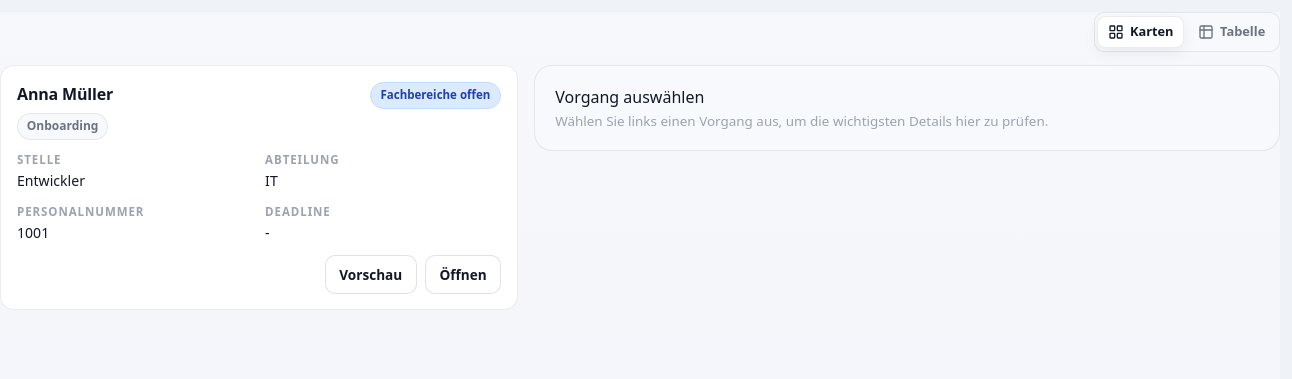
Test case: WorkflowListResults — split workspace selection (Z18-F7) › shows workflow preview after user clicks Vorschau
Click the button "Vorschau" at (371, 274), box 325,255 -> 417,294
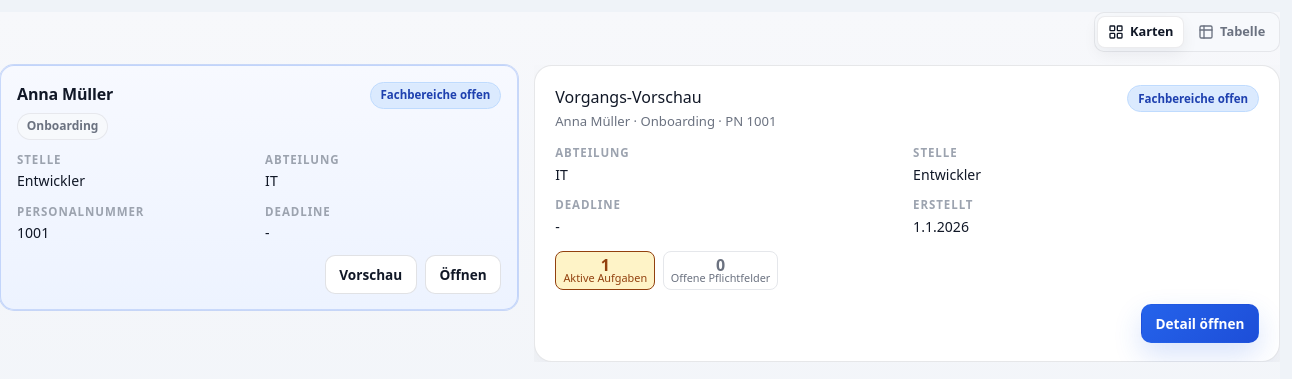
Expected: the heading "Anna Müller" is shown, 17,82 -> 113,106
Now the element named "Vorschau für Anna Müller" is shown, box 534,65 -> 1280,362
